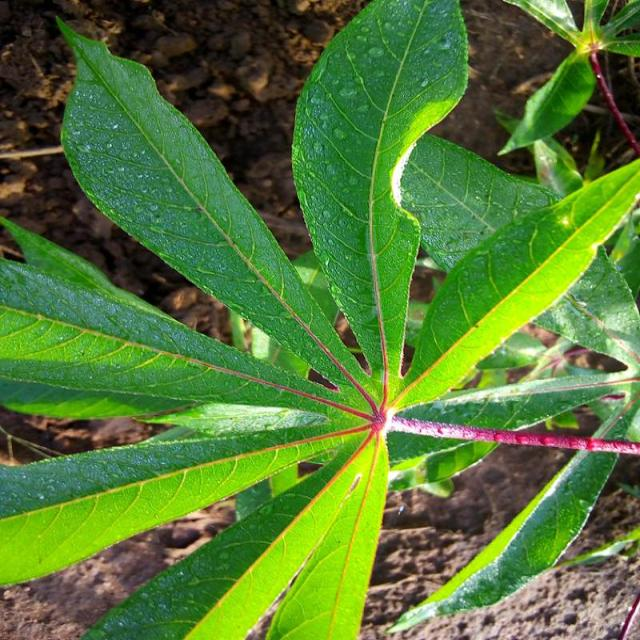cassava leaf: (0, 1, 638, 637), (54, 13, 374, 400), (290, 0, 470, 381)
